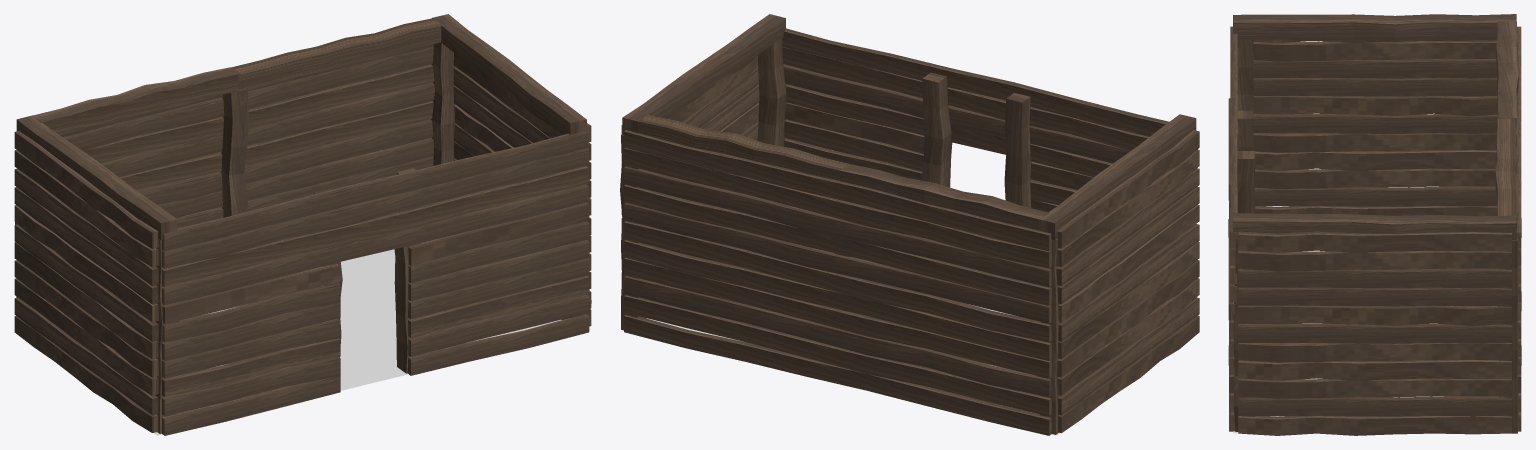
File: savannah_cabin.glb
3 views of the same model, side by side, from view 1: azimuth 30°, elevation 25°; view 2: azimuth 150°, elevation 25°; view 3: azimuth 270°, elevation 25° (orthographic).
Visible parts, largest first — view 1: Cube.053; view 2: Cube.053; view 3: Cube.053.
Part boxes in pixels (x1,y1,x2,y2): Cube.053: (14,14,591,435); Cube.053: (620,14,1199,435); Cube.053: (1228,14,1521,435).
Size of the model in its own units: 7.09 by 3.31 by 4.12.
Materials: 1 (1 with a texture image).
